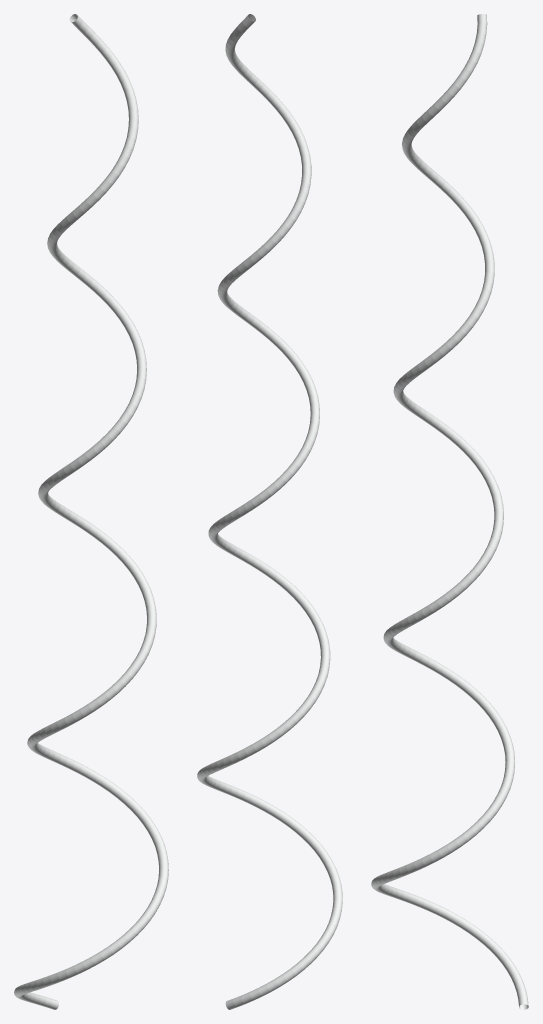
Rendered from SkytreeConstructionTowerSpiral1.obj.
The picture shows the model from 3 angles, left to right: view 1: azimuth 30°, elevation 25°; view 2: azimuth 150°, elevation 25°; view 3: azimuth 270°, elevation 25°; orthographic projection. The views are drawn at different scales.
Parts seen in each view (by area): view 1: Col-13_Cylinder.008; view 2: Col-13_Cylinder.008; view 3: Col-13_Cylinder.008.
Boxes of the visible parts, x1,y1,x2,y2 form: Col-13_Cylinder.008: [14, 14, 168, 1009]; Col-13_Cylinder.008: [197, 14, 342, 1009]; Col-13_Cylinder.008: [371, 14, 528, 1009].
Size of the model in its own units: 15.55 by 114 by 16.26.
